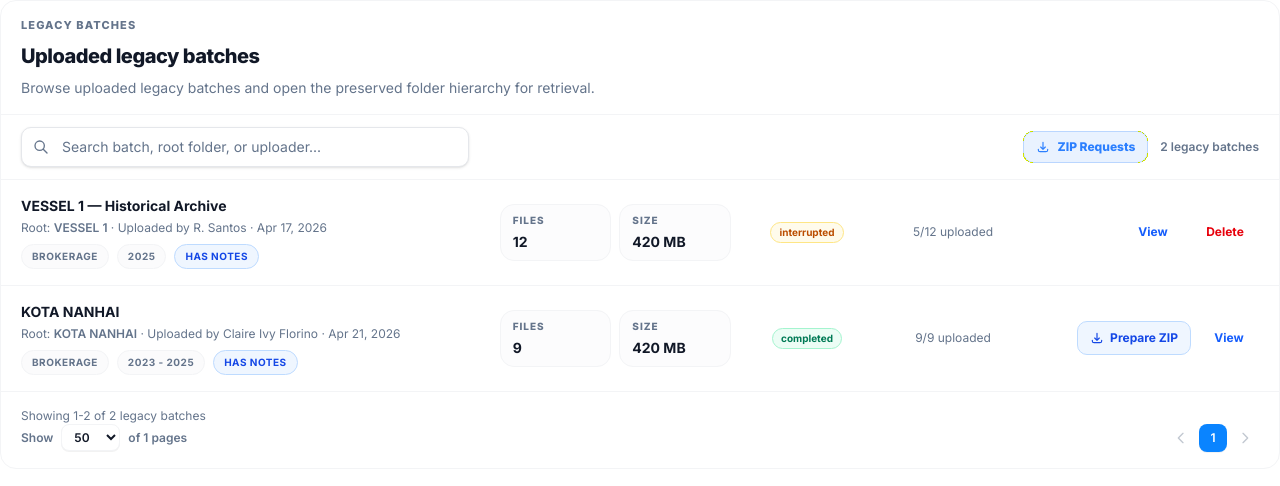
Test case: LegacyBatchesPage › sends the search term through the legacy batches hook
Type "claire" into the field named "search legacy batches".
click(245, 146); type("claire")  # box [21,126,469,166]
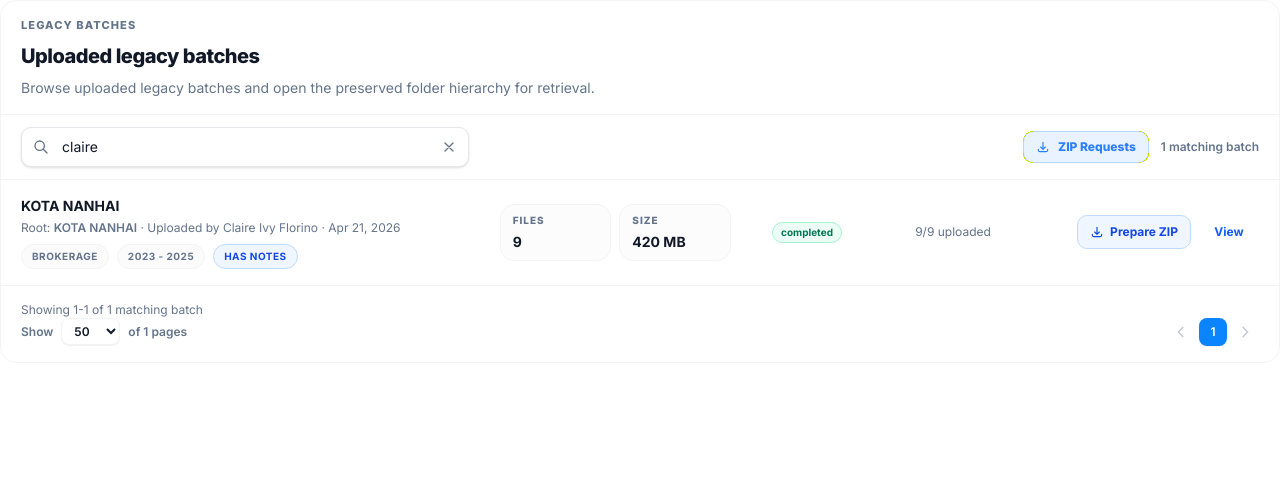
Expected: the 1st text "KOTA NANHAI" is shown, [21,196,119,214]
Result: the text "VESSEL 1 — Historical Archive" is gone
Result: the text "1 matching batch" is shown at [1161,138,1259,154]
